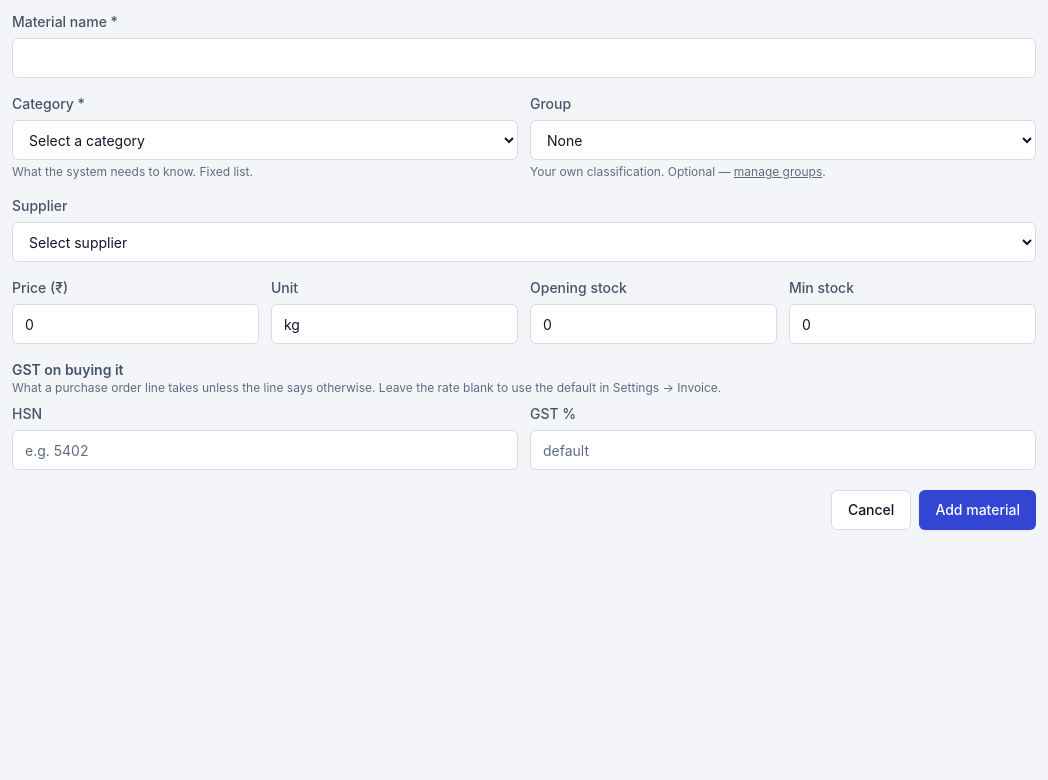
Test: saving › refuses to submit with no category
Type "Unclassified" into the field labelled "Material name *".
click(524, 58); type("Unclassified")  # box x1=12 y1=38 x2=1036 y2=78
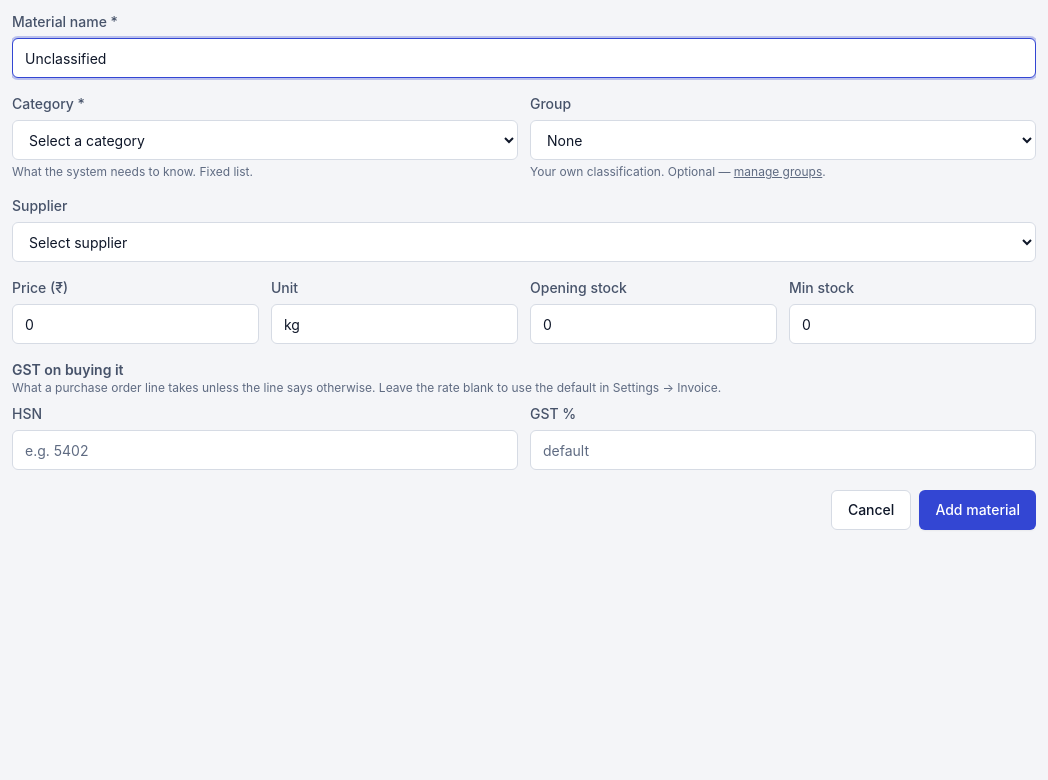
Click the button "Add material".
click(978, 510)  # box x1=919 y1=490 x2=1036 y2=530
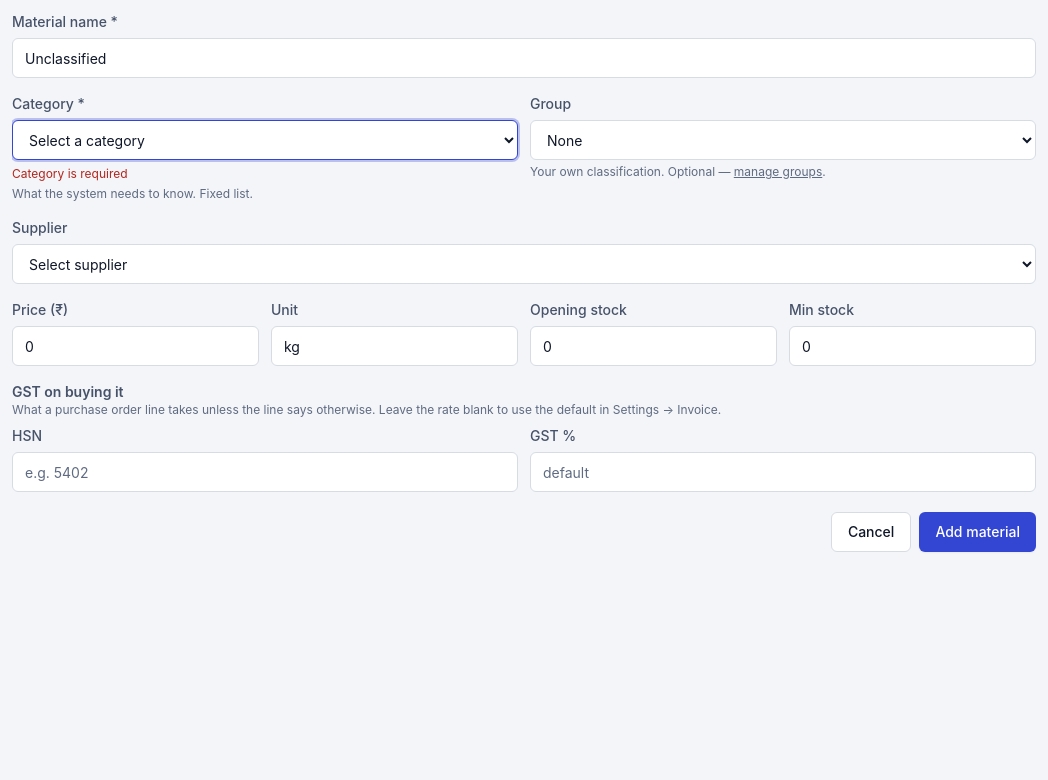
Check: the text "Category is required" is shown, box x1=12 y1=166 x2=128 y2=181
